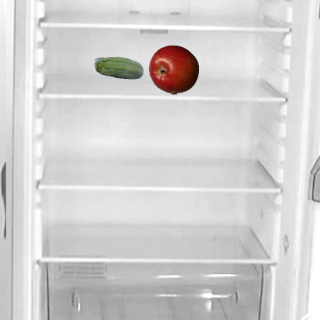Apple Braeburn: (148, 44, 198, 94)
Corn Husk: (93, 44, 143, 94)
